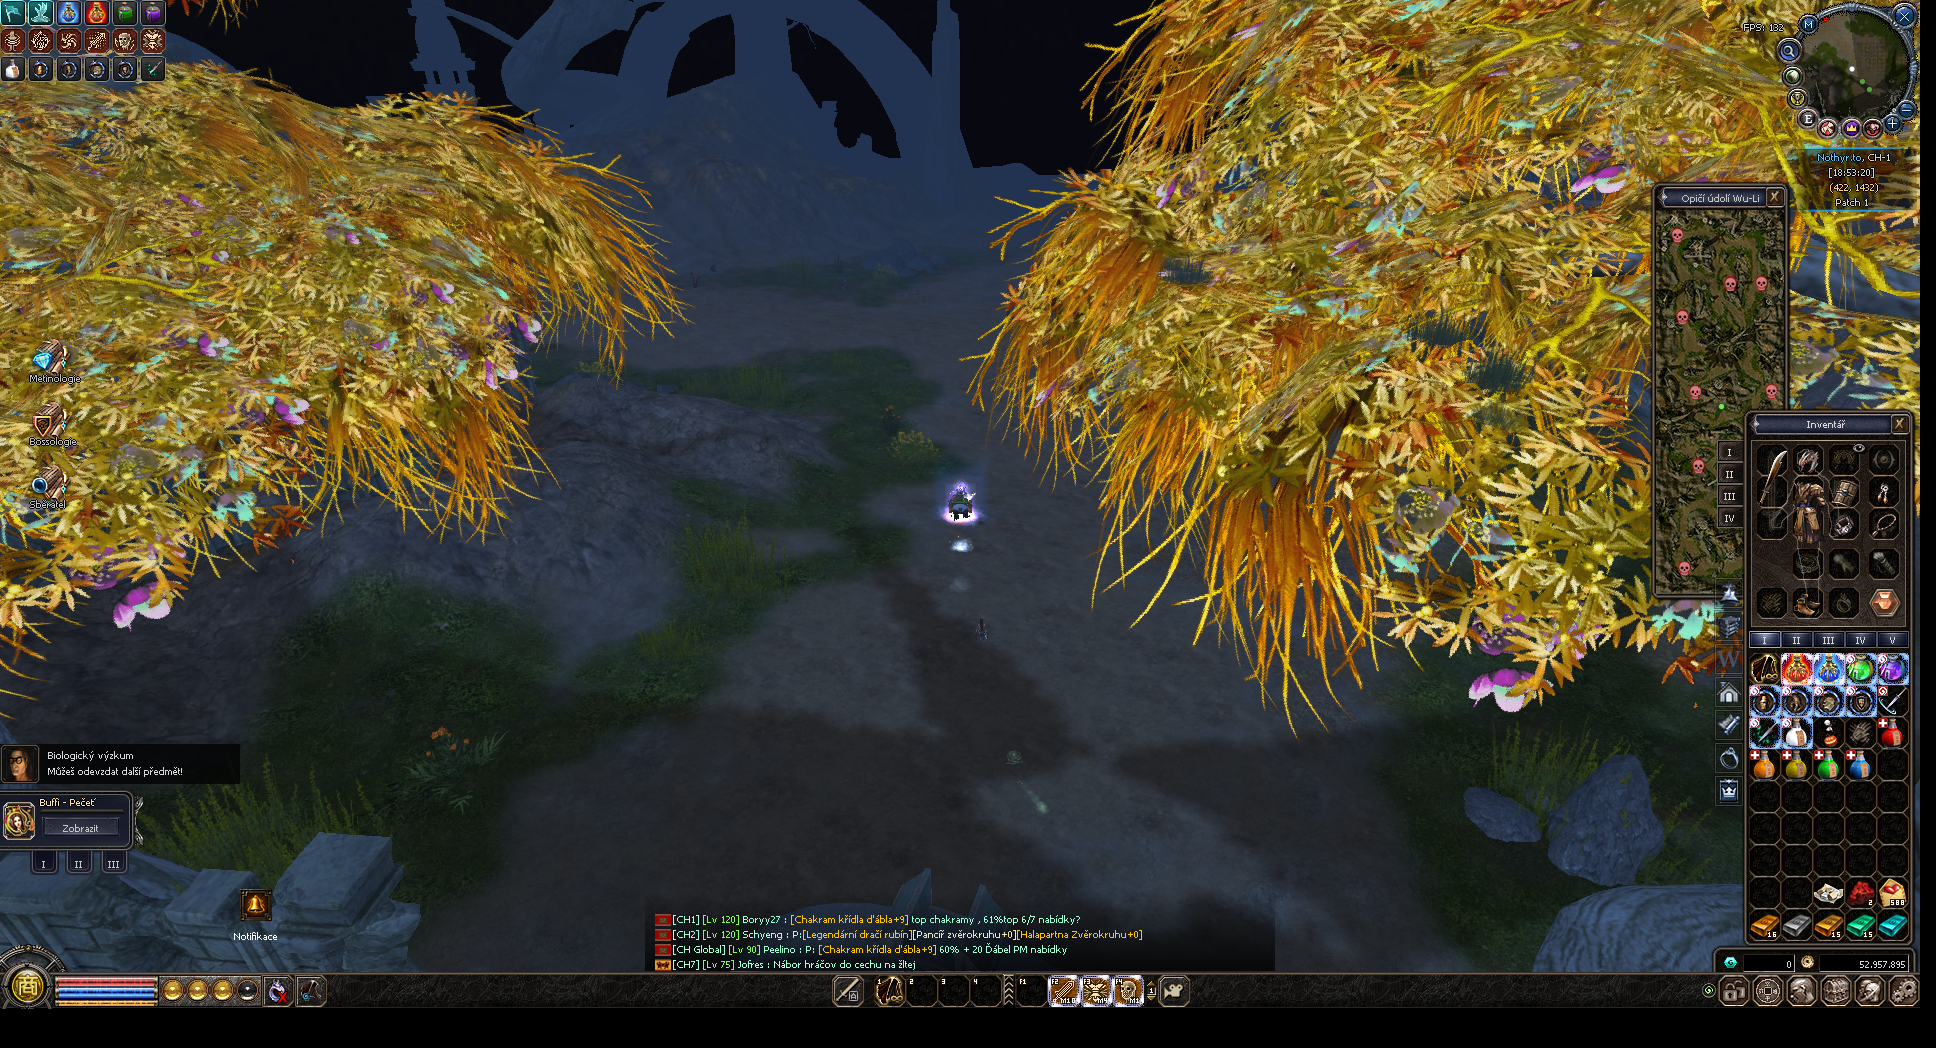Me: (949, 483, 976, 520)
Statue: (976, 617, 989, 644)
